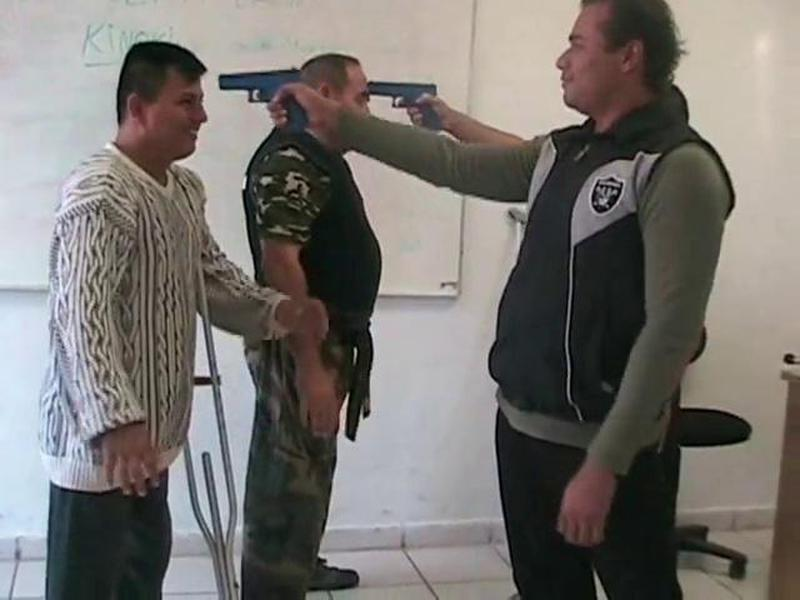Pistola: (203, 62, 325, 145), (351, 69, 448, 141)
